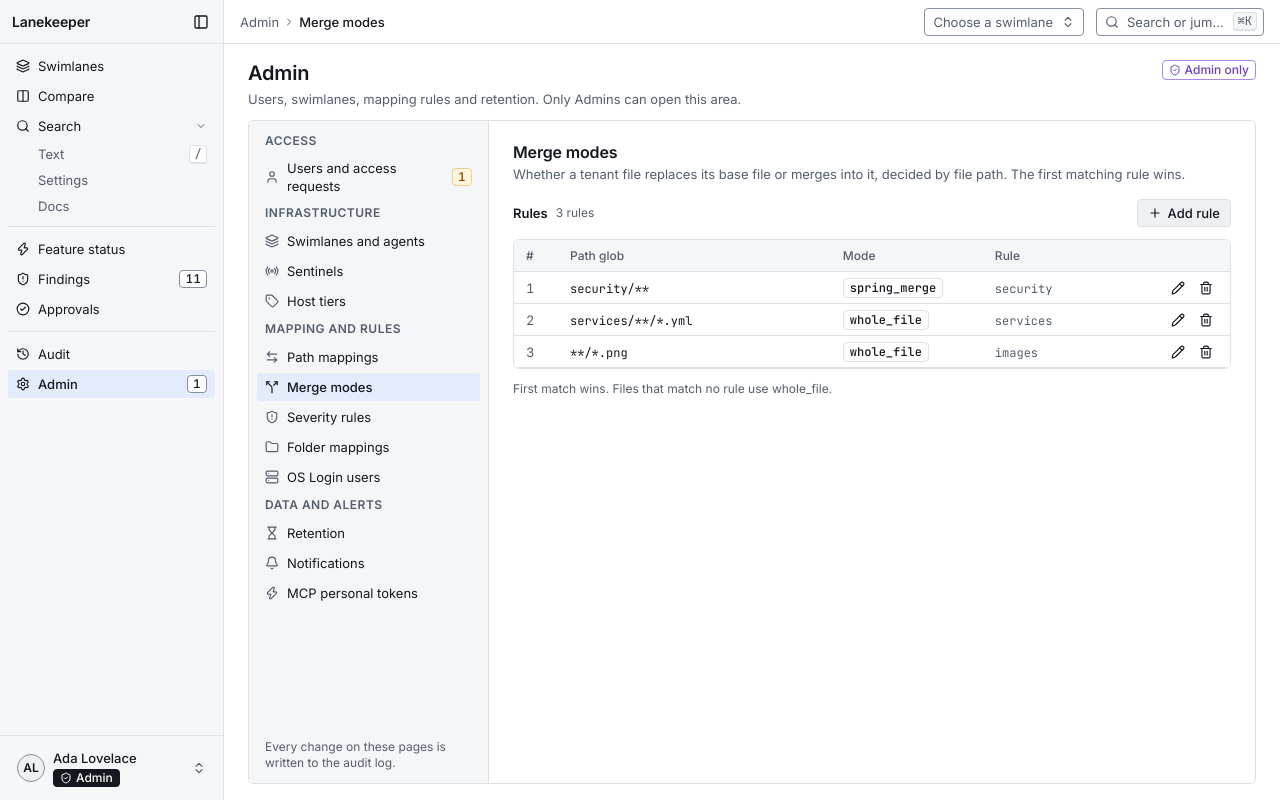
Test case: adding and changing a rule › adds a rule with a pattern and a mode, after a dialog
The width and height of the screenshot is (1280, 800).
Check: the heading "Admin" is shown, box [248,61,309,85]
Click the button "Add rule" at (1184, 213), box [1137,199,1231,227]
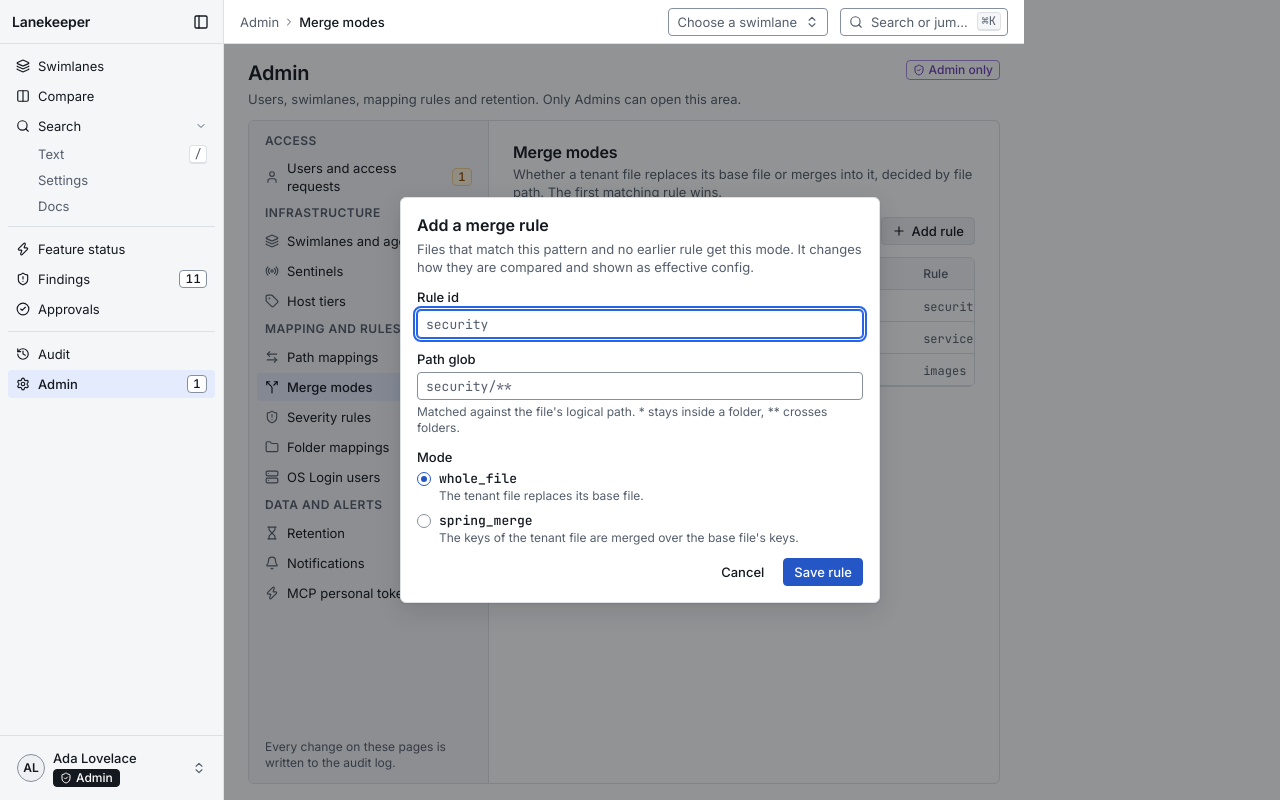
Type "docs" into the field labelled "Rule id" at (640, 324), box [417,310,863,338]
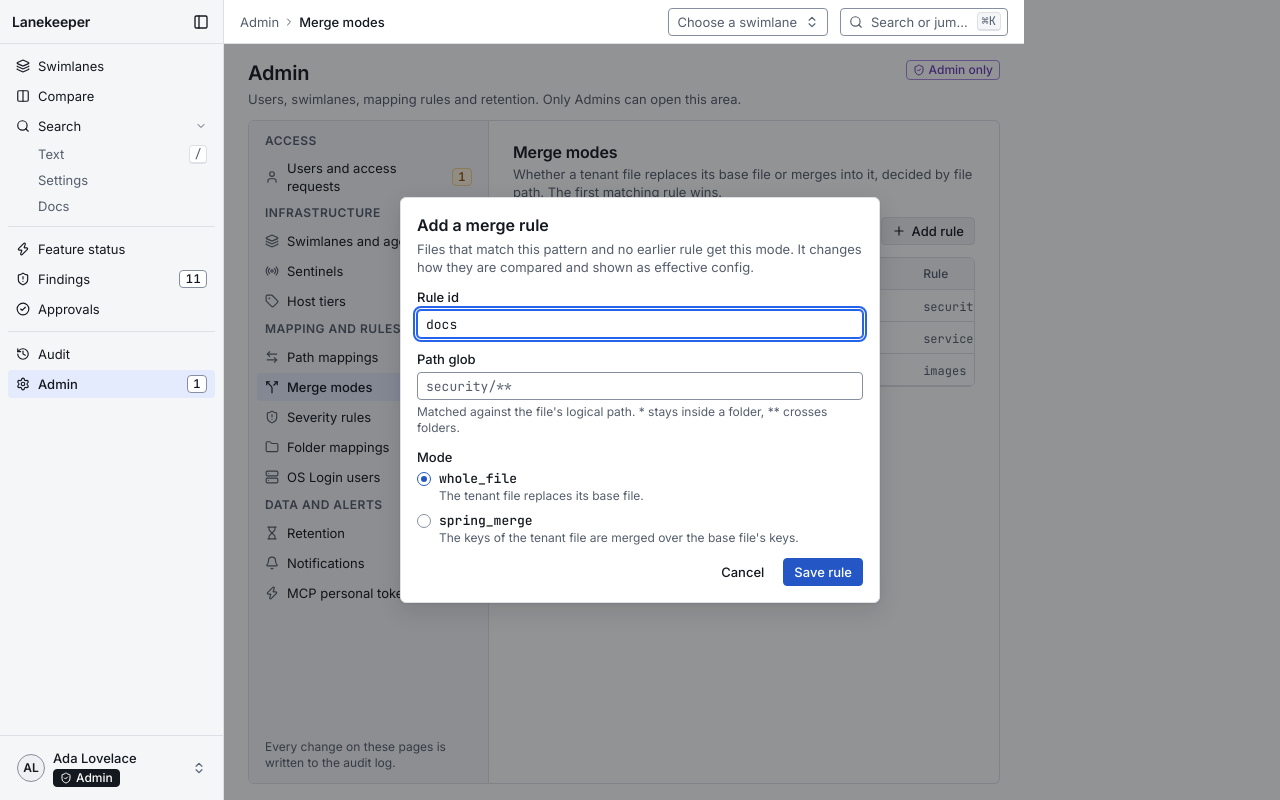
Type "docs/**" into the field labelled "Path glob" at (640, 386), box [417,372,863,400]
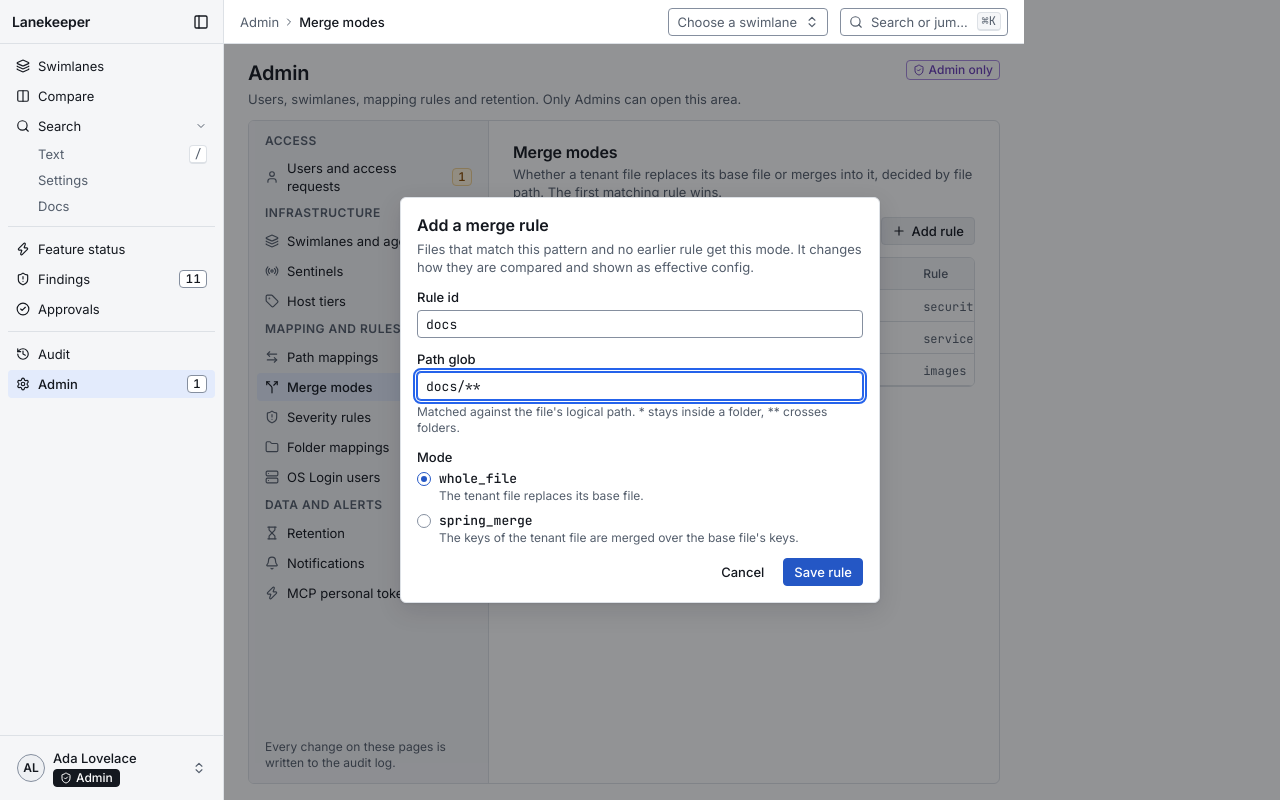
Click the 2nd radio button named "spring_merge" at (424, 521), box [417,514,431,528]
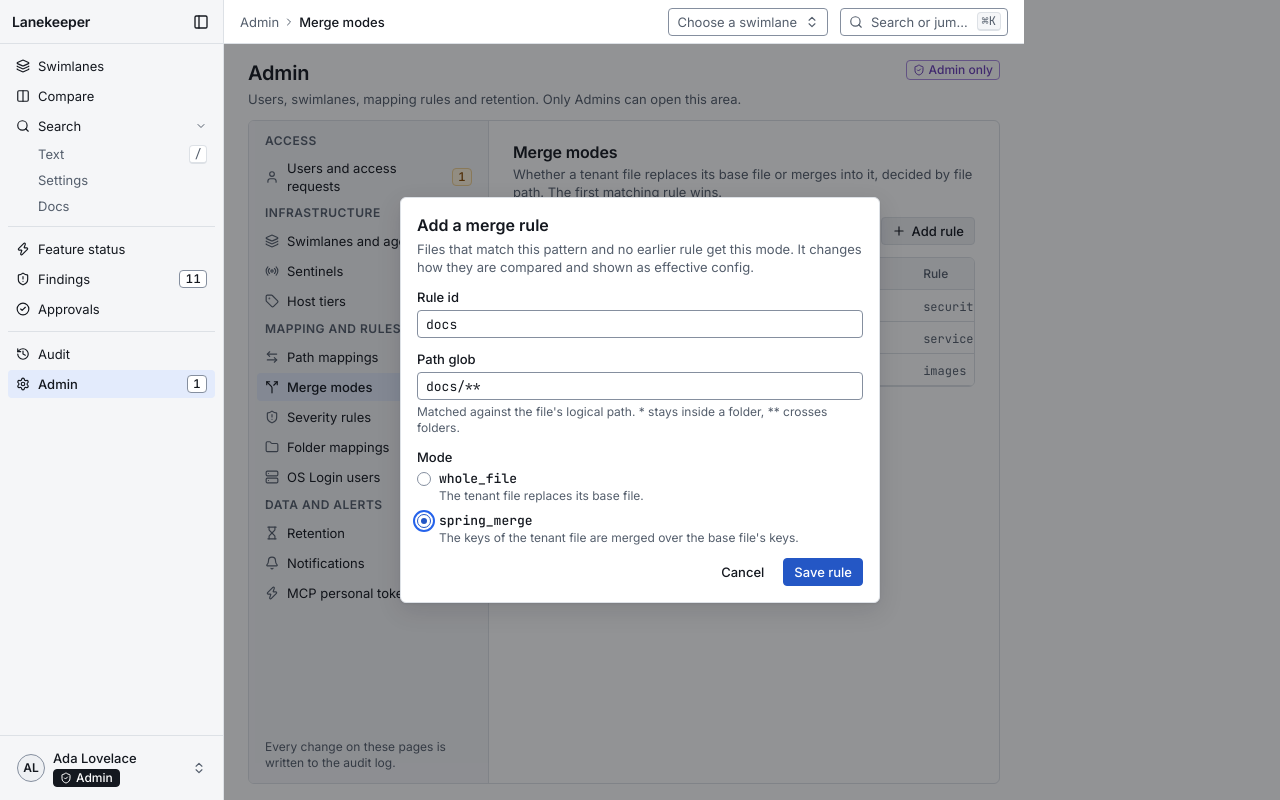
Check: the text "keys of the tenant file are merged over the base file's keys" is shown, box [439,530,799,545]
Click the button "Save rule" at (823, 572), box [783,558,863,586]
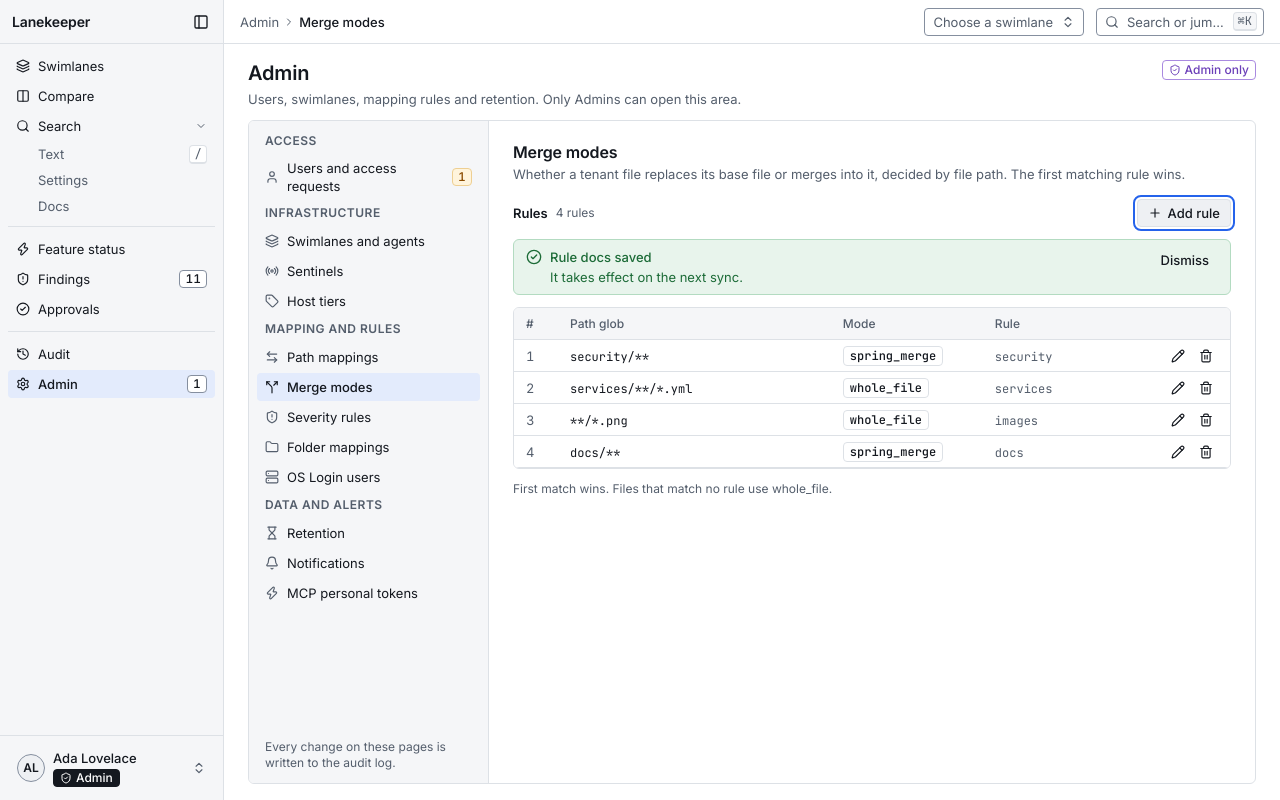
Check: the dialog is gone
Check: the text "Rule docs saved" is shown, box [550,249,652,265]
Check: the text "docs/**" is shown, box [570,444,620,460]
